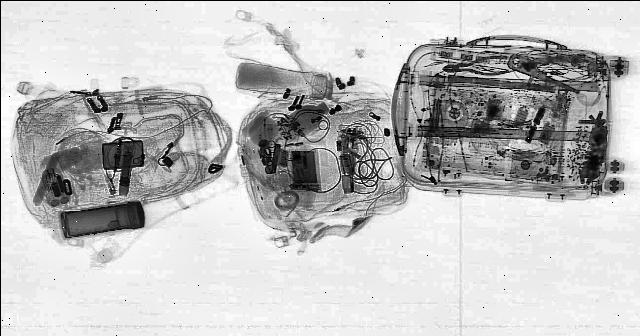Pliers: (494, 46, 604, 94), (438, 54, 514, 78)
